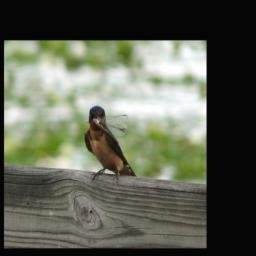Swallow: (84, 105, 137, 187)
